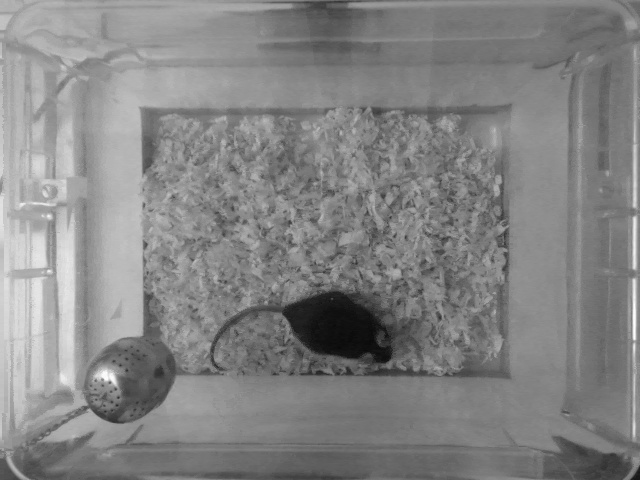mice: (208, 289, 397, 378)
